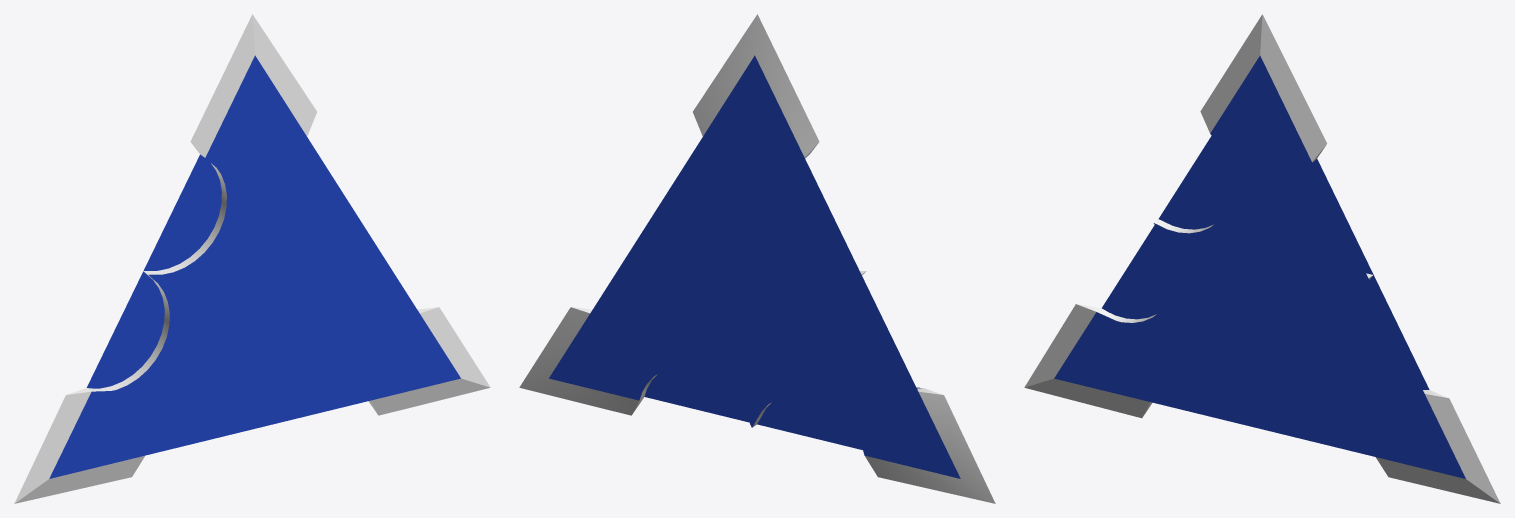
The model's file is Shuriken_10.fbx.
The picture shows the model from 3 angles, left to right: view 1: azimuth 30°, elevation 25°; view 2: azimuth 150°, elevation 25°; view 3: azimuth 330°, elevation 25°; orthographic projection.
Visible parts, largest first — view 1: Shuriken_10; view 2: Shuriken_10; view 3: Shuriken_10.
Part boxes in pixels (bbox=[...]): Shuriken_10: bbox=[14, 14, 490, 503]; Shuriken_10: bbox=[519, 14, 995, 503]; Shuriken_10: bbox=[1024, 14, 1500, 503].
Bounding box in the file's own units: 2 × 1.74 × 0.0368.
